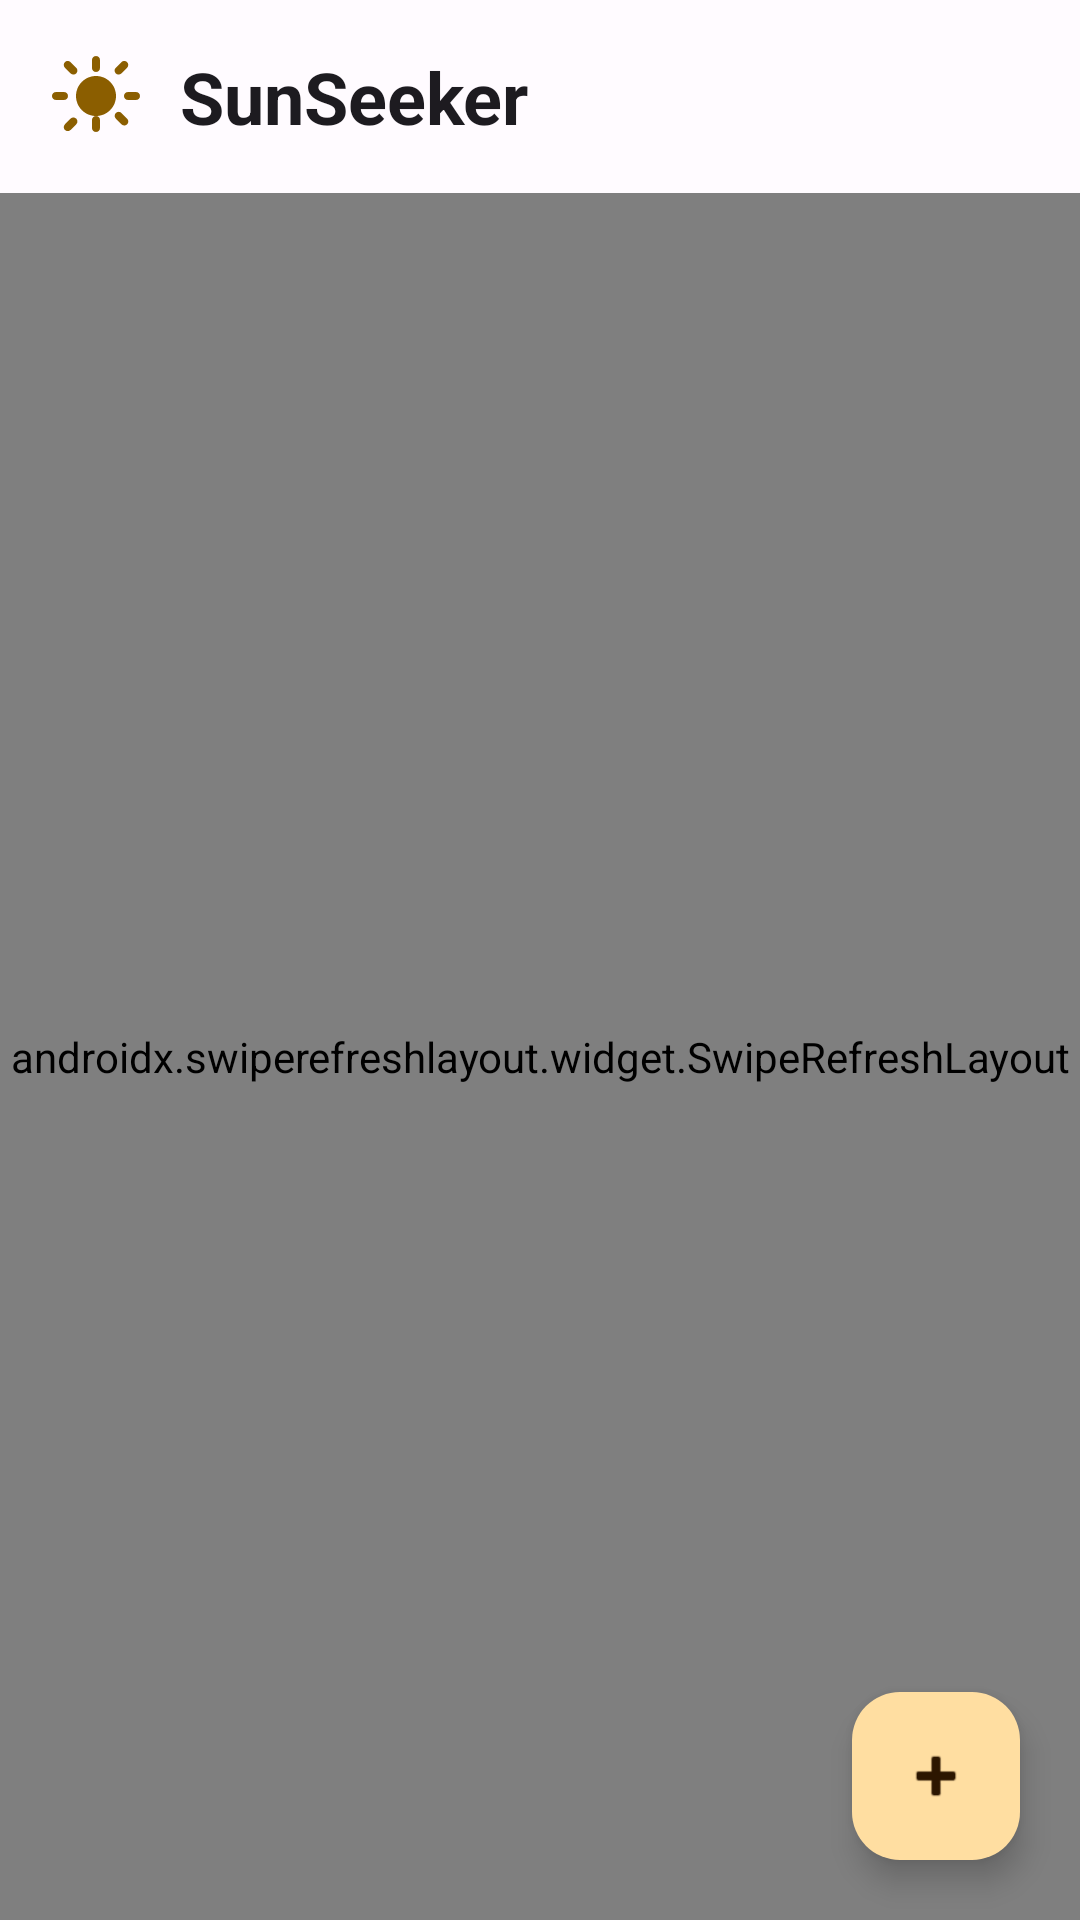

Where to tap for icons on this 1080px×1920px app screen, as (x=x, y=y):
Create event: (x=936, y=1776)
solar sun: (x=96, y=94)
